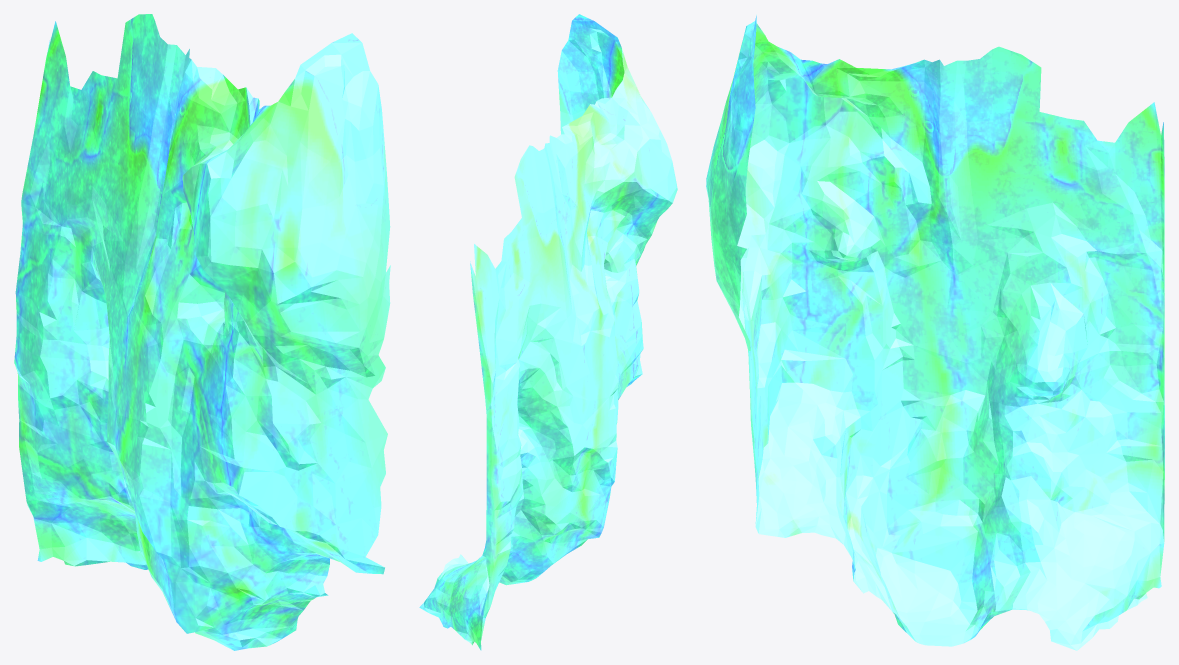
File: FSideCliff.fbx
The picture shows the model from 3 angles, left to right: view 1: azimuth 30°, elevation 25°; view 2: azimuth 150°, elevation 25°; view 3: azimuth 270°, elevation 25°; orthographic projection. The views are drawn at different scales.
Parts seen in each view (by area): view 1: HL_FortressWall_Side_Cliff.mo; view 2: HL_FortressWall_Side_Cliff.mo; view 3: HL_FortressWall_Side_Cliff.mo.
Part boxes in pixels (left/top/right/bottom): HL_FortressWall_Side_Cliff.mo: left=14, top=14, right=390, bottom=650; HL_FortressWall_Side_Cliff.mo: left=419, top=14, right=677, bottom=650; HL_FortressWall_Side_Cliff.mo: left=706, top=15, right=1164, bottom=650.
Bounding box in the file's own units: 2417 × 8880 × 6004.
